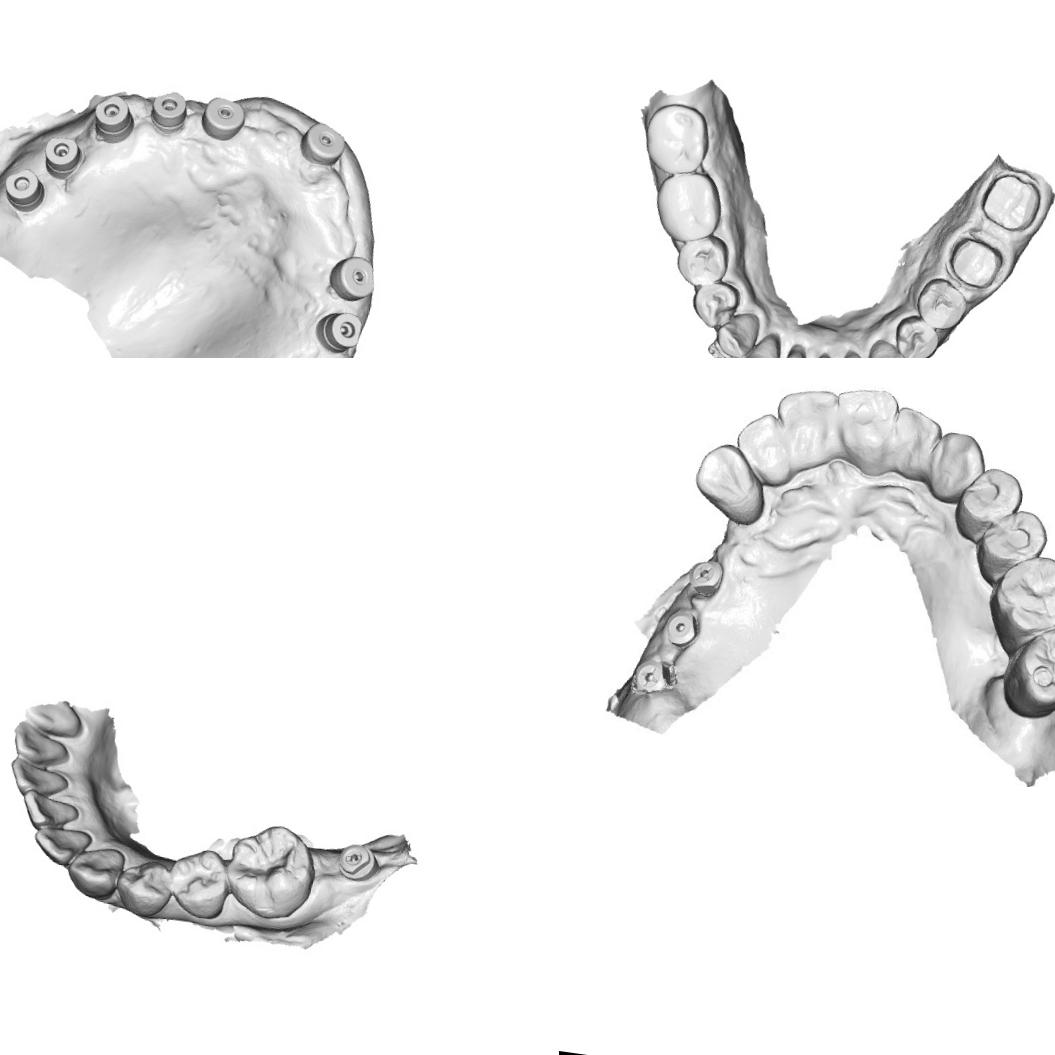canine: (688, 438, 774, 530), (922, 427, 990, 508), (62, 842, 128, 904), (712, 308, 760, 358), (865, 336, 911, 358)
crown: (974, 167, 1046, 238), (942, 230, 1009, 296)
implant: (327, 251, 382, 304), (87, 90, 140, 144), (0, 162, 49, 214), (297, 119, 348, 167), (200, 92, 246, 144), (40, 132, 88, 178), (317, 307, 363, 353), (148, 86, 189, 130), (662, 606, 701, 648)
implant_minus: (335, 841, 383, 886)
implant_plus: (683, 554, 728, 598), (630, 654, 674, 698)
incisor: (768, 382, 842, 470), (828, 382, 902, 468), (730, 408, 798, 487), (886, 404, 946, 478), (7, 718, 73, 770), (17, 787, 87, 835), (4, 755, 75, 802), (29, 822, 95, 870), (738, 329, 782, 358), (770, 346, 810, 358)
molar: (221, 817, 322, 926), (983, 548, 1055, 649), (650, 166, 727, 247), (998, 620, 1055, 726), (640, 99, 714, 179)
premolar: (970, 503, 1052, 591), (949, 462, 1029, 548), (163, 843, 235, 922), (112, 854, 174, 920), (673, 230, 732, 290), (913, 274, 970, 333), (688, 277, 742, 331), (891, 312, 942, 358)
